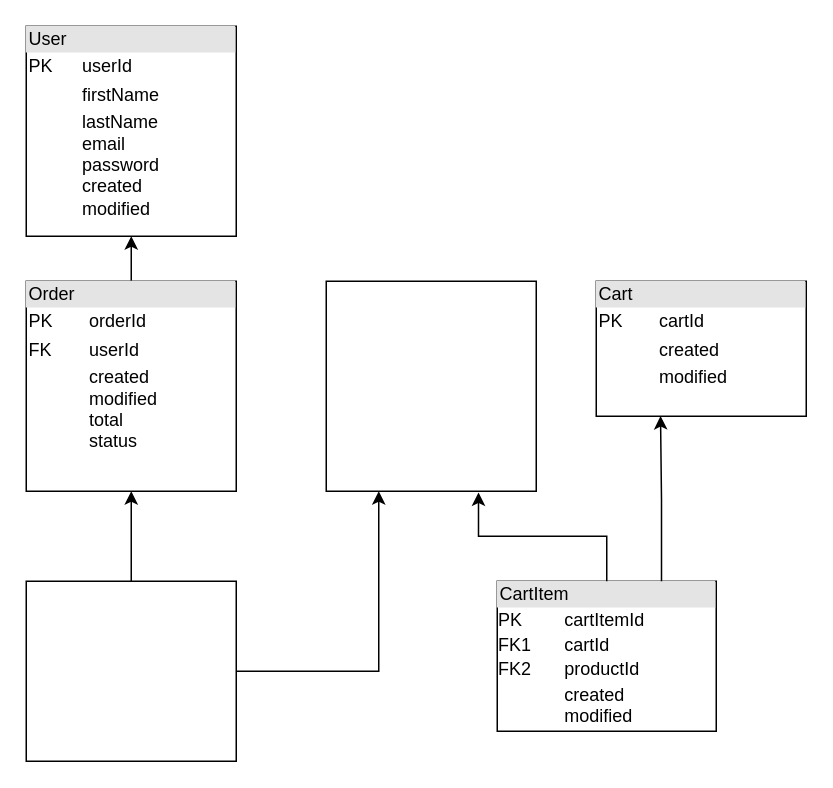
Some shapes in this 833 by 788 pixel diagram are drawn without their labels. Each missing label, with the box of its shape:
OrderItem PK orderItemId FK1 oderId FK2 productId quantity created price: (25, 580, 236, 761)
Product PK productId name price description created modified: (325, 280, 536, 491)
